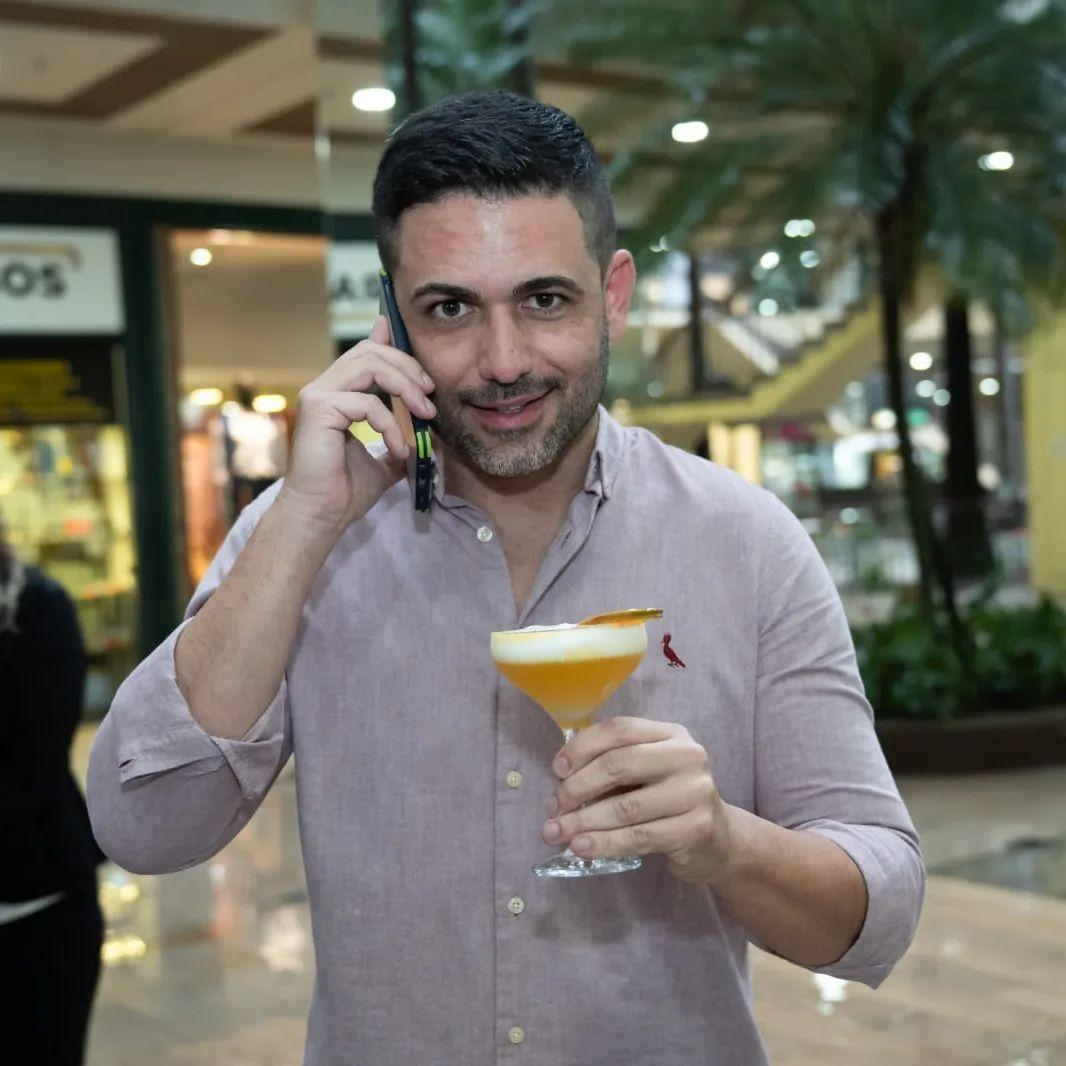glass-wine: (484, 616, 653, 885)
